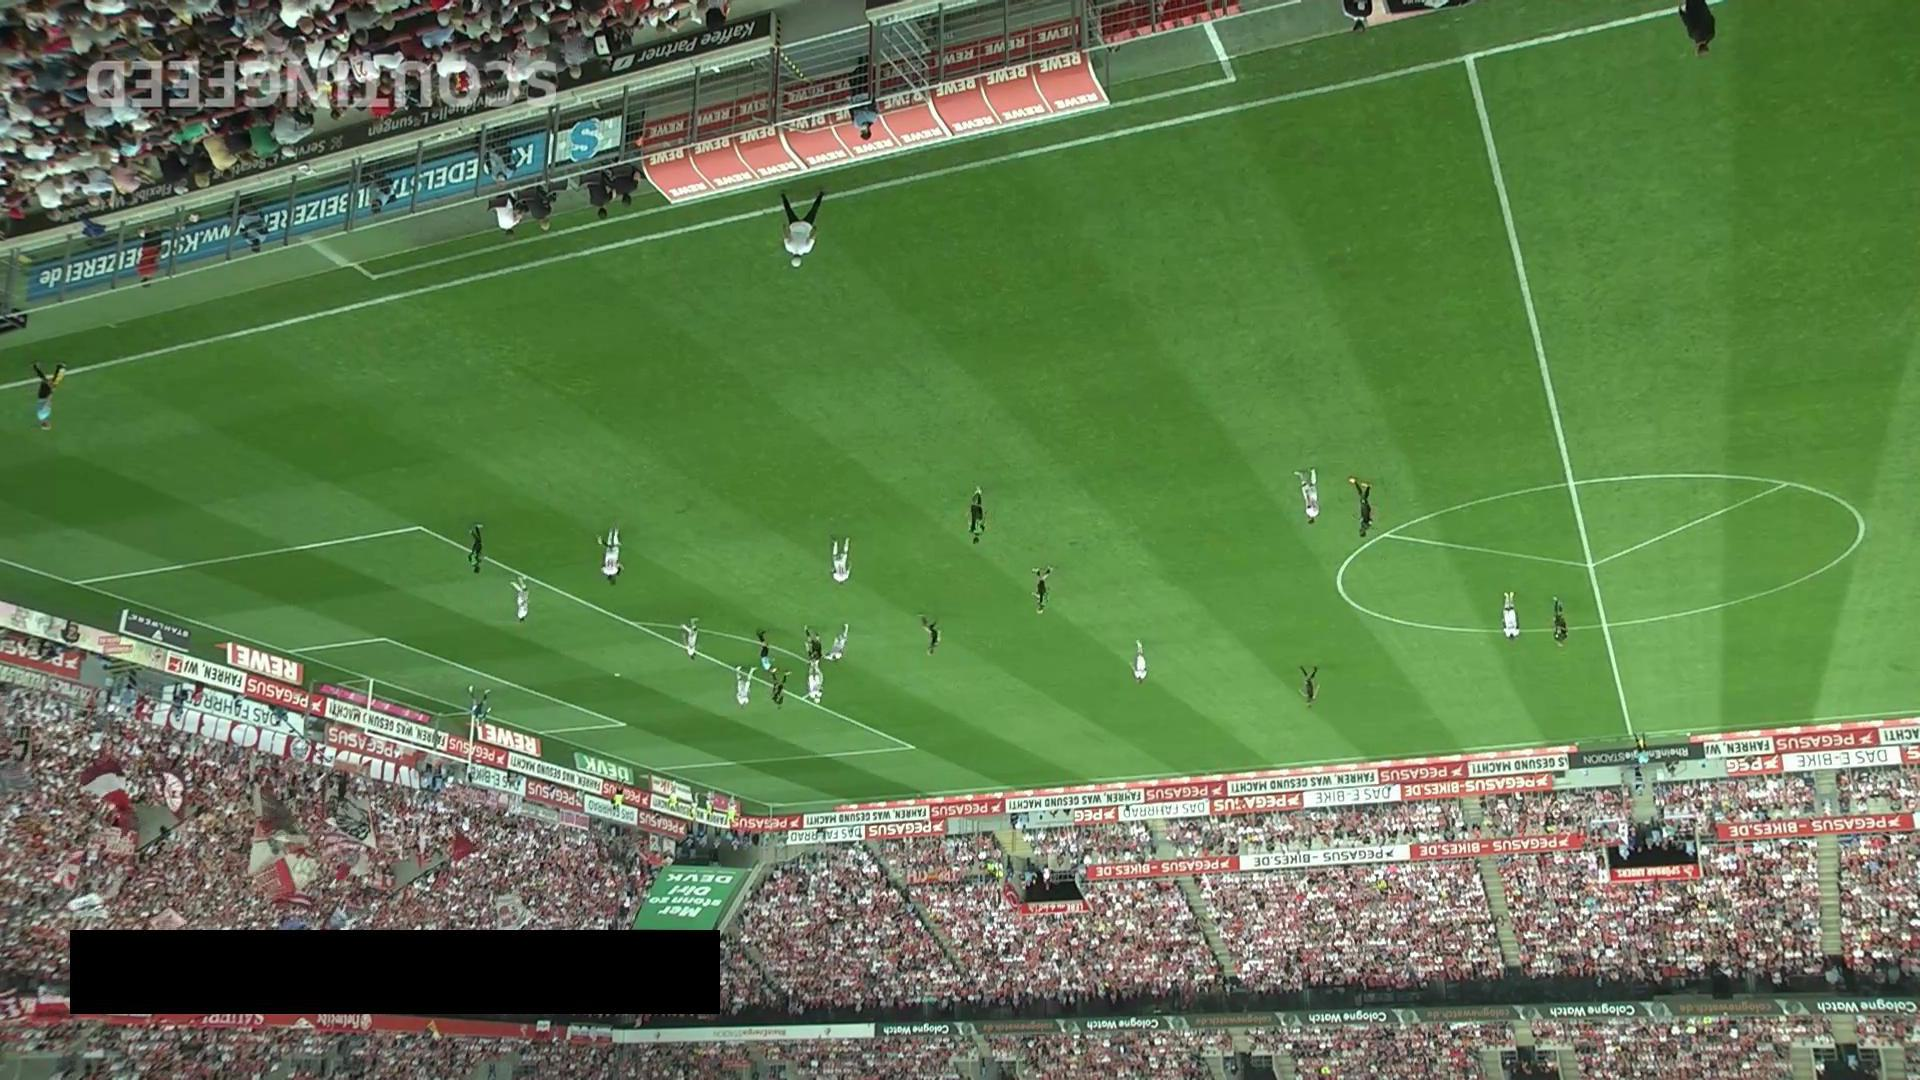goalkeeper: (467, 685, 491, 724)
player: (1349, 478, 1375, 539), (1293, 469, 1320, 525), (968, 485, 987, 546), (830, 537, 852, 587), (601, 527, 621, 580), (1031, 567, 1053, 614), (1500, 591, 1520, 641), (510, 577, 530, 624), (825, 624, 849, 662), (467, 524, 485, 574), (805, 658, 824, 704), (1551, 597, 1568, 648), (735, 665, 754, 710), (1298, 666, 1319, 706), (681, 618, 700, 661), (803, 626, 823, 666), (920, 617, 940, 657), (1131, 640, 1148, 684), (771, 671, 789, 710)
referee: (32, 361, 66, 431), (757, 630, 774, 675), (1633, 733, 1650, 769)
